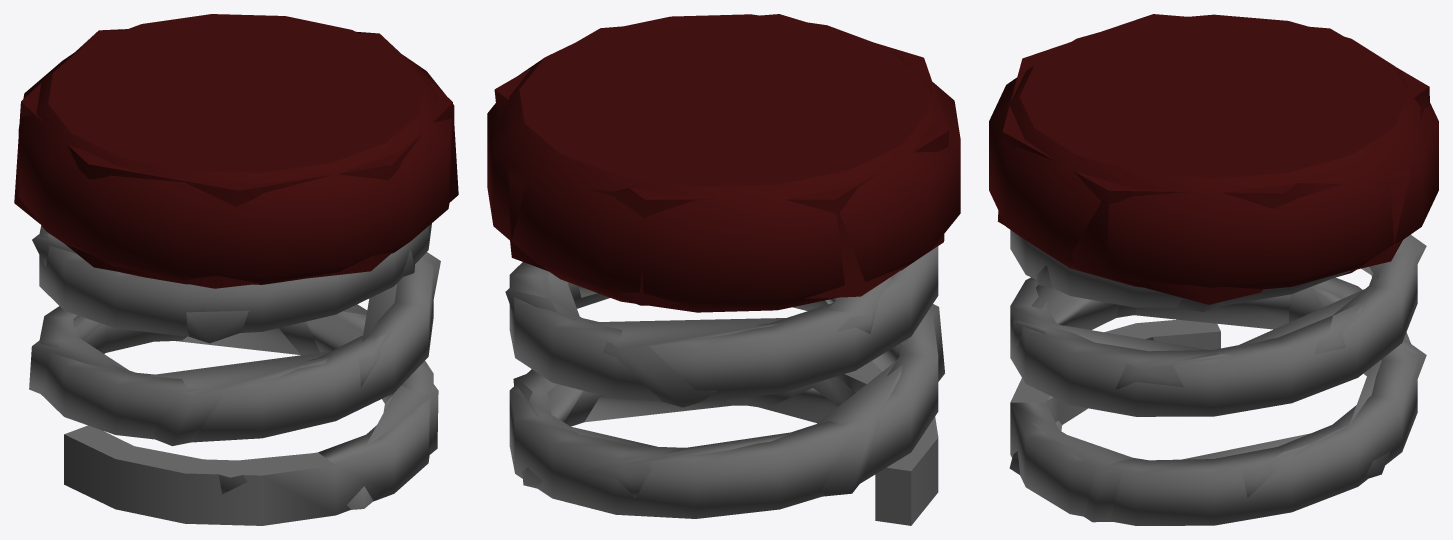
Rendered from Bouncer.fbx.
3 renders of one model, left to right at view 1: azimuth 30°, elevation 25°; view 2: azimuth 150°, elevation 25°; view 3: azimuth 270°, elevation 25°, orthographic. The views are drawn at different scales.
Visible parts, largest first — view 1: High_Bouncer, Low_Bouncer; view 2: High_Bouncer, Low_Bouncer; view 3: High_Bouncer, Low_Bouncer.
Boxes of the visible parts, x1,y1,x2,y2 form: High_Bouncer: [18, 14, 454, 525]; Low_Bouncer: [14, 29, 458, 509]; High_Bouncer: [487, 14, 960, 525]; Low_Bouncer: [494, 14, 949, 497]; High_Bouncer: [989, 14, 1438, 525]; Low_Bouncer: [997, 14, 1429, 522].
Bounding box in the file's own units: 221 × 194 × 221.
